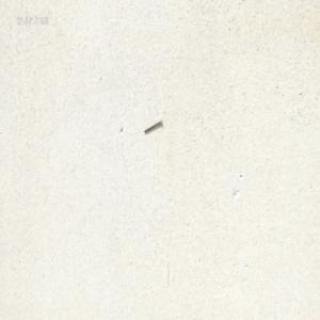Bolttrack_idkeyframe: (142, 117, 161, 133)
